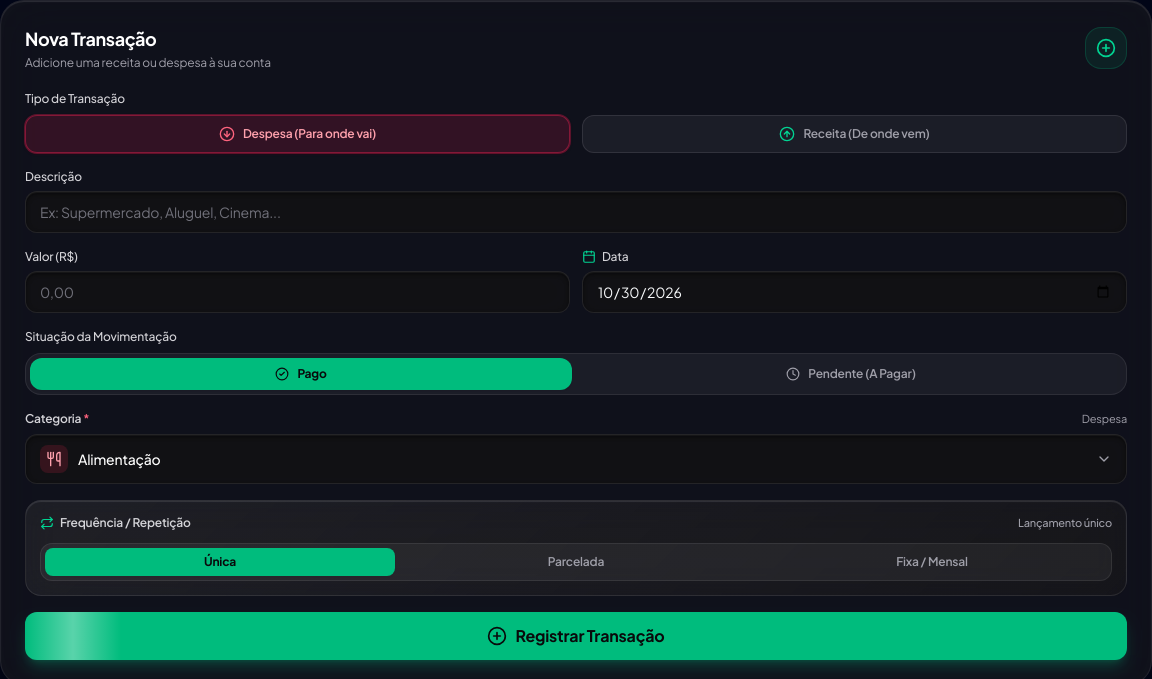
<TransactionForm /> (Interação do Usuário & Formulário) › deve exibir mensagem de erro se o formulário for enviado sem descrição
Type "100" into the field with test id "input-amount". click: (298, 292)
box: [25,271,570,313]
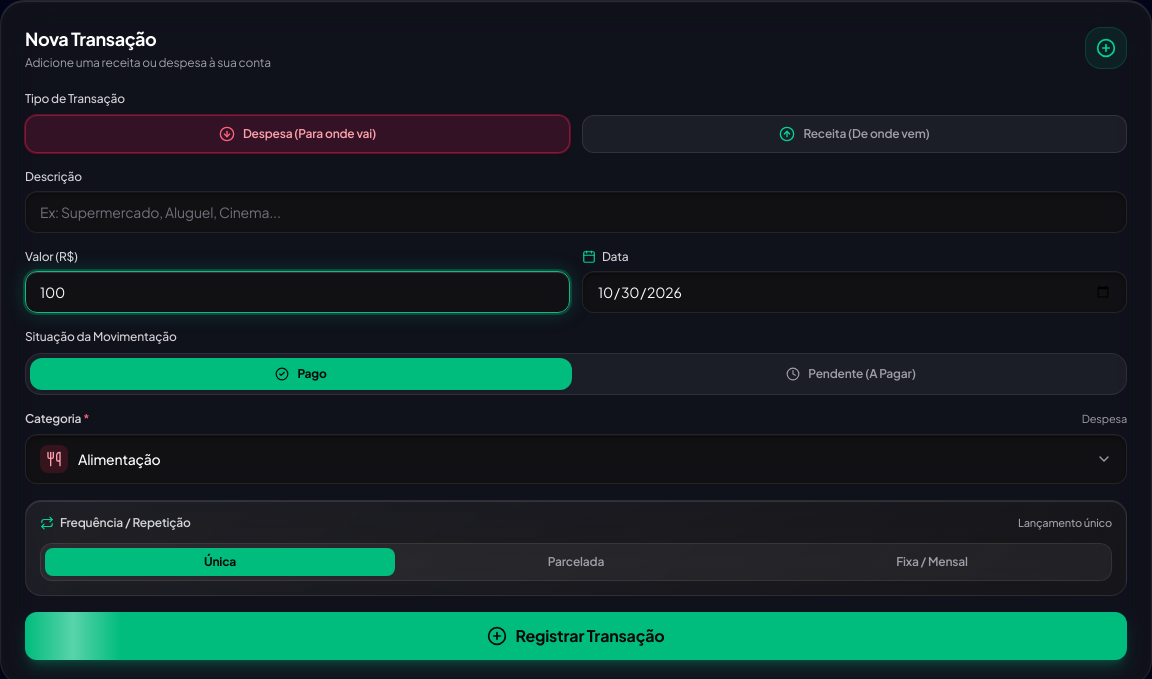
Click the button "Registrar Transação". click: (576, 636)
box: [25,612,1127,660]
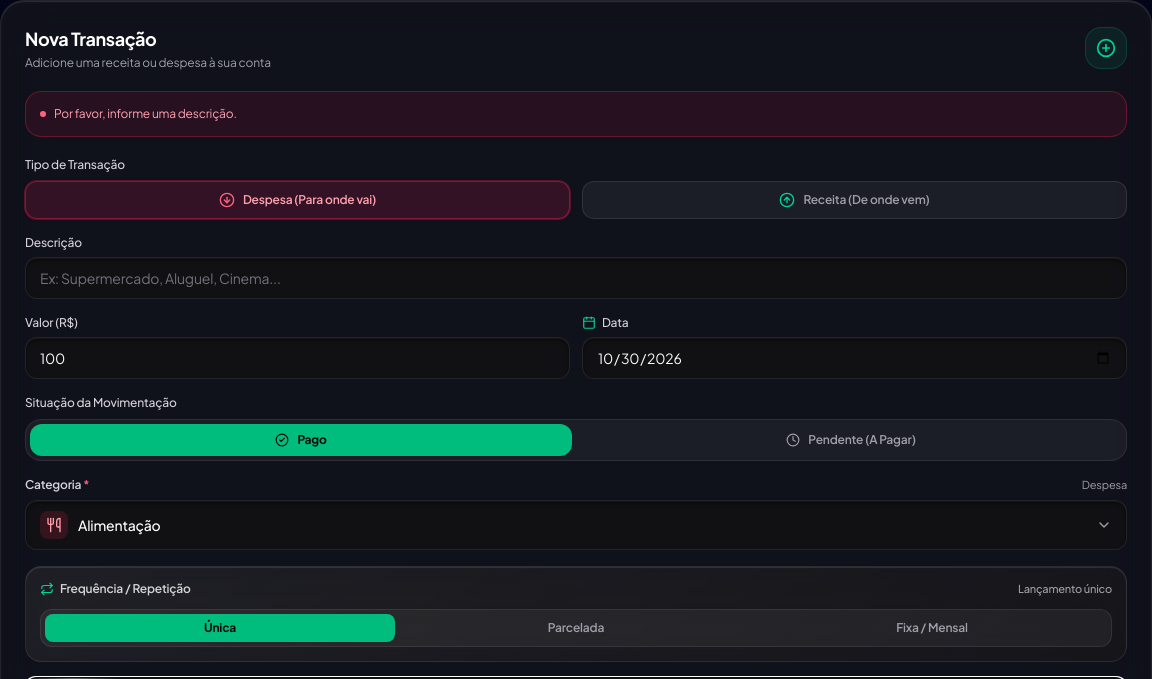
expect the message shows "informe uma descrição": met, box [54,106,237,121]
